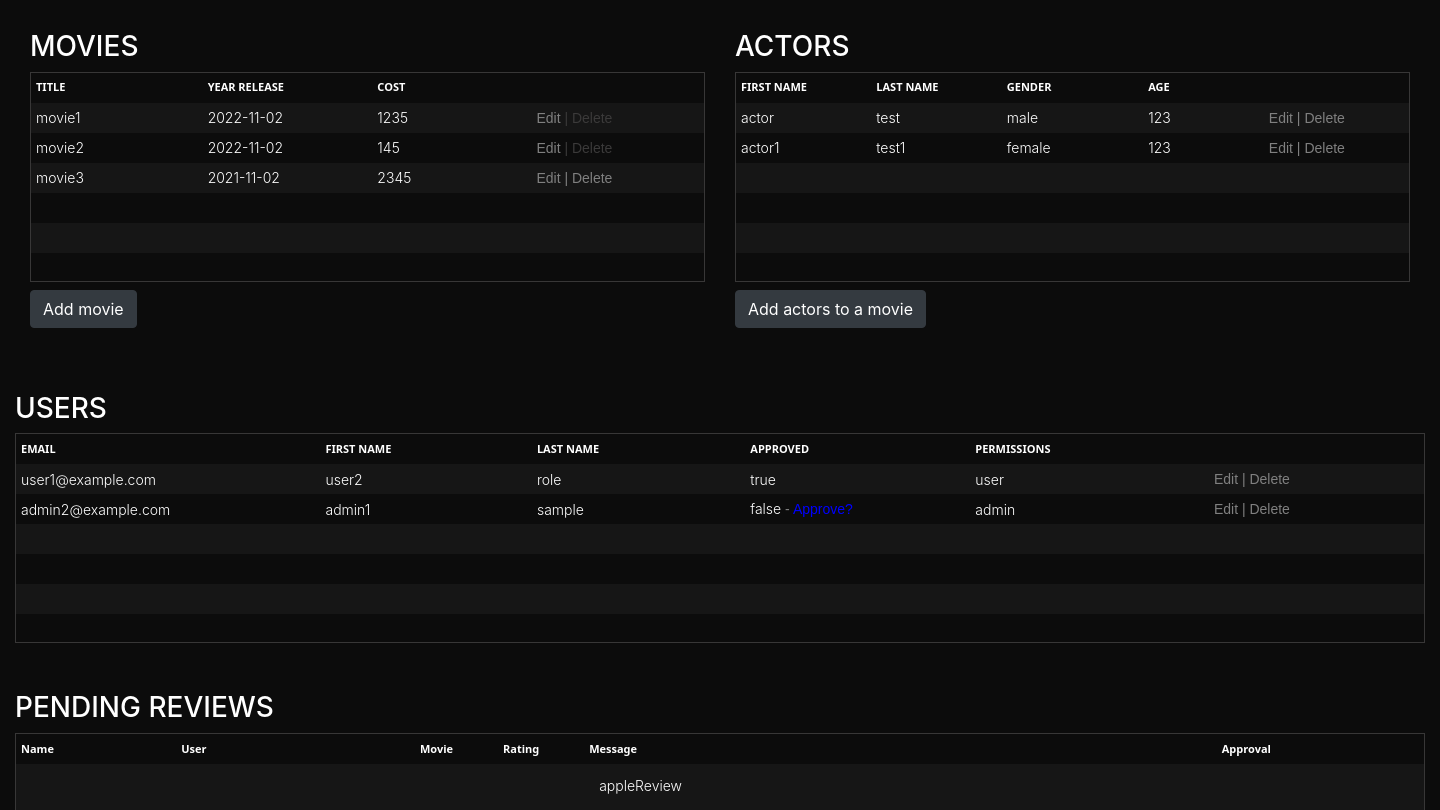
Test: <DeleteModal/> › Should show modal
Click the button named "| delete" at (586, 118), box top-left (560, 108), bottom-right (612, 129)
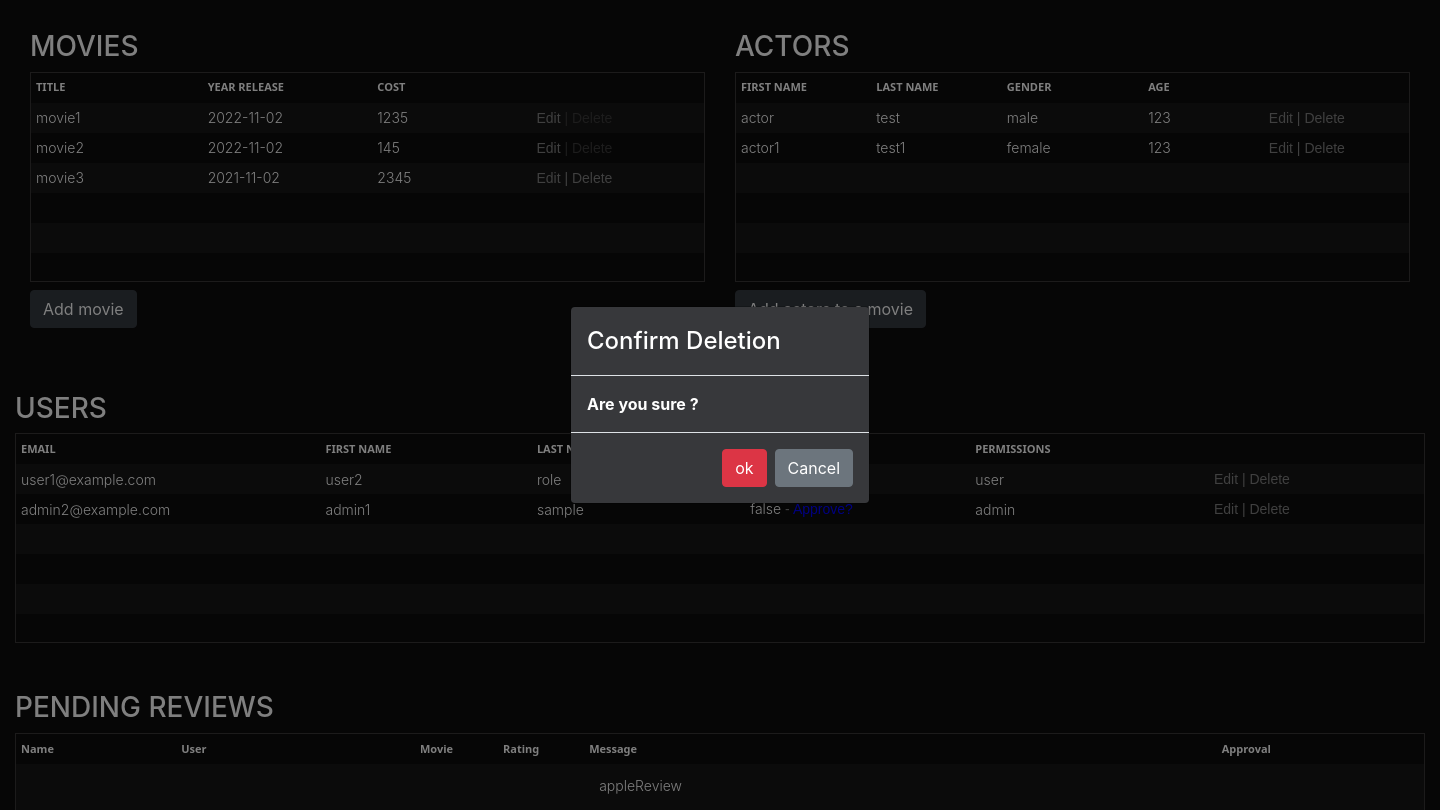
Now the text "Confirm Deletion" is shown, box top-left (587, 323), bottom-right (781, 359)
Now the button "ok" is shown, box top-left (722, 449), bottom-right (767, 487)
Now the button "Cancel" is shown, box top-left (774, 449), bottom-right (853, 487)
